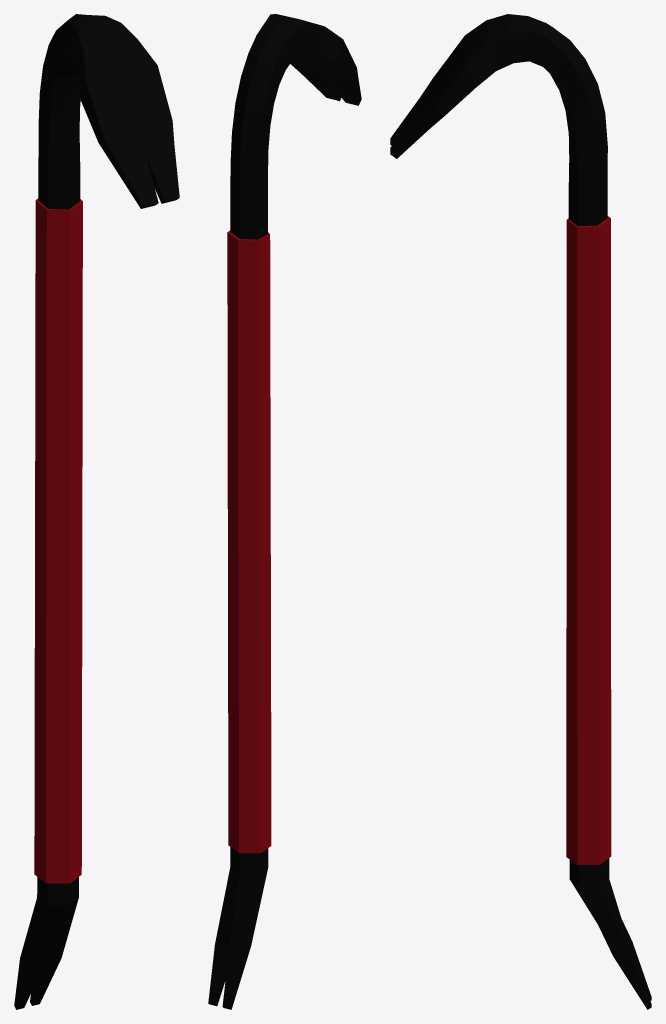
File: Crowbar - Kopie.fbx
The picture shows the model from 3 angles, left to right: view 1: azimuth 30°, elevation 25°; view 2: azimuth 150°, elevation 25°; view 3: azimuth 270°, elevation 25°; orthographic projection. The views are drawn at different scales.
Parts seen in each view (by area): view 1: Crowbar; view 2: Crowbar; view 3: Crowbar.
Boxes of the visible parts, x1,y1,x2,y2 form: Crowbar: [14, 14, 179, 1009]; Crowbar: [208, 14, 361, 1009]; Crowbar: [390, 14, 651, 1009].
Size of the model in its own units: 394 by 5471 by 1318.
